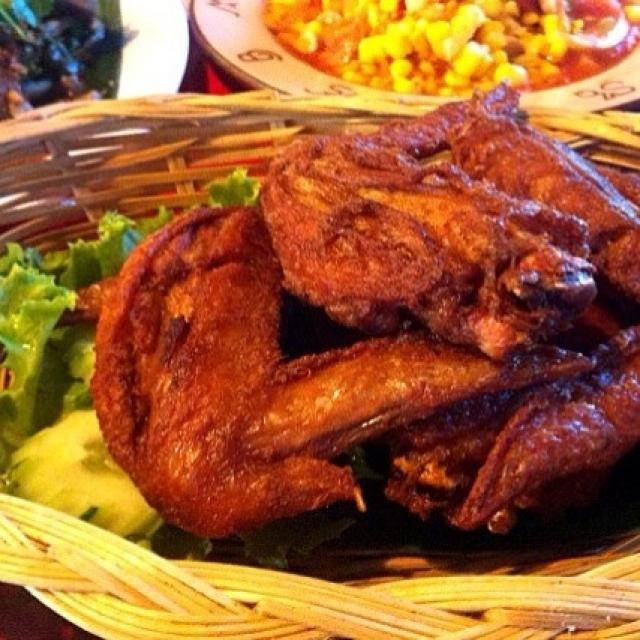Deep fried chicken wing: (86, 116, 633, 535)
